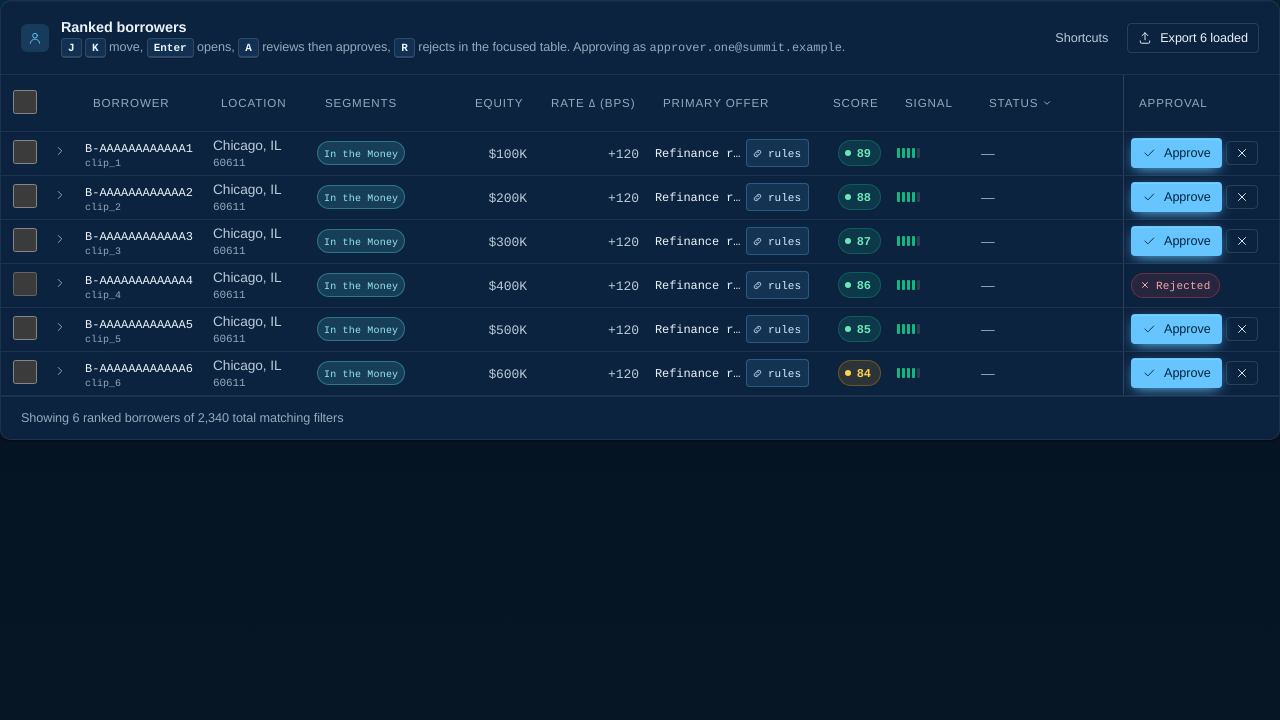
Test: LeadTable range selection and the on-screen selection › the scope line and the campaign handoff (tables-07 / tables-02) › names the filters a campaign cannot carry
Click the checkbox with test id "lead-select-all" at point(25, 102), box [13, 90, 37, 114]
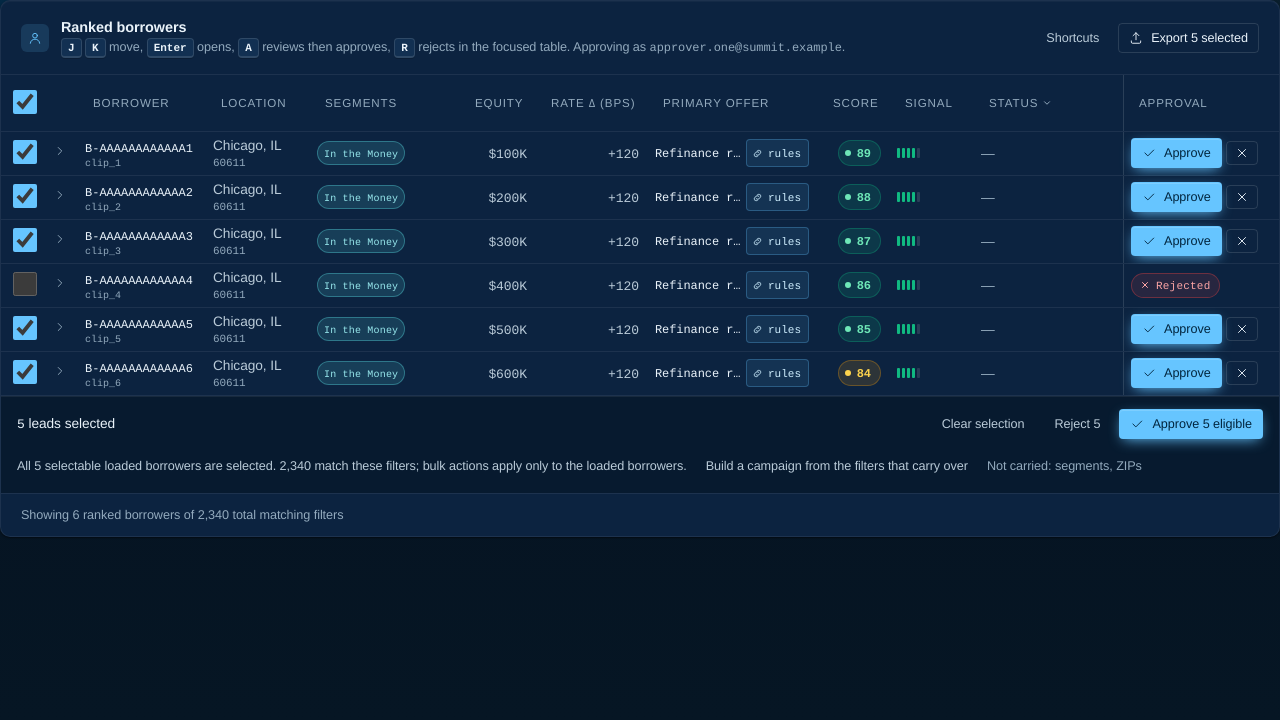
Now the link with test id "lead-bulk-campaign-handoff" reads "Build a campaign from the filters that carry over", box [706, 458, 968, 474]
Now the text with test id "lead-bulk-not-carried" reads "Not carried: segments, ZIPs", box [987, 457, 1142, 475]
